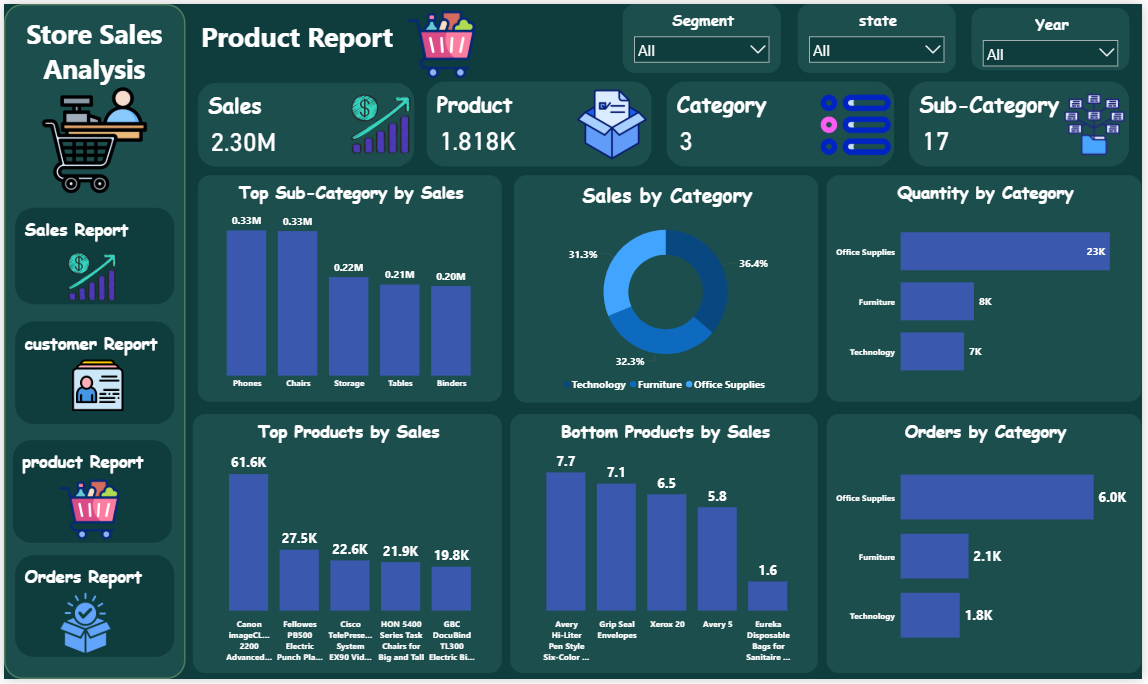

This screenshot's page, from the dashboard's own definition file:
{"tool":"powerbi","page":{"name":"product","canvas":[1820,1080],"ordinal":3},"visuals":[{"type":"cardVisual","title":"Sales","fields":{"Data":["Sum(sales.Sales)"]},"box":[310,126,346,134],"z":0},{"type":"cardVisual","title":"Product","fields":{"Data":["Count(product.Product Name)"]},"box":[676,124,360,136],"z":1000},{"type":"cardVisual","title":"Sub-Category","fields":{"Data":["Count(product.Sub-Category)"]},"box":[1448,124,352,136],"z":2000},{"type":"columnChart","title":"Top Sub-Category by Sales","fields":{"Y":["Sum(sales.Sales)"],"Category":["product.Sub-Category"]},"box":[310,274,486,362],"z":3000},{"type":"donutChart","title":"Sales by Category","fields":{"Category":["product.Category"],"Y":["Sum(sales.Sales)"]},"box":[816,274,486,364],"z":4000},{"type":"columnChart","title":"Top Products by Sales","fields":{"Category":["product.Product Name"],"Y":["Sum(sales.Sales)"]},"box":[302,656,494,414],"z":5000},{"type":"textbox","box":[0,0,290,1080],"z":6000},{"type":"textbox","box":[310,0,1490,124],"z":7000},{"type":"image","box":[550,124,106,136],"z":8000},{"type":"cardVisual","title":"Category","fields":{"Data":["Count(product.Category)"]},"box":[1060,124,364,136],"z":9000},{"type":"image","box":[0,126,290,184],"z":10000},{"type":"slicer","title":"Year","fields":{"Values":["date.Year","date.Quarter"]},"box":[1547.5,5,252.5,100],"z":11000},{"type":"slicer","title":"state","fields":{"Values":["customer.State"]},"box":[1270,0,252.5,110],"z":12000},{"type":"slicer","title":"Segment","fields":{"Values":["customer.Segment"]},"box":[990,0,252.5,110],"z":13000},{"type":"group","id":"g1","title":"Group 1","box":[18,882,254,162],"z":14000},{"type":"group","id":"g2","title":"Group 2","box":[14,698,254,164],"z":15000},{"type":"group","id":"g3","title":"Group 3","box":[18,508,254,164],"z":16000},{"type":"group","id":"g4","title":"Group 4","box":[0,326,282,154],"z":17000},{"type":"columnChart","title":"Bottom Products by Sales","fields":{"Category":["product.Product Name"],"Y":["Sum(sales.Sales)"]},"box":[810,656,492,414],"z":18000},{"type":"barChart","title":" Quantity by Category","fields":{"Category":["product.Category"],"Y":["Sum(sales.Quantity)"]},"box":[1316,274,504,362],"z":19000},{"type":"textbox","box":[18,326,254,154],"z":19000,"group":"g4"},{"type":"textbox","box":[18,508,254,164],"z":20000,"group":"g3"},{"type":"barChart","title":" Orders by Category","fields":{"Category":["product.Category"],"Y":["CountNonNull(sales.Order ID)"]},"box":[1316,656,504,414],"z":20000},{"type":"image","box":[910,126,126,134],"z":21000},{"type":"textbox","box":[14,698,254,164],"z":21000,"group":"g2"},{"type":"image","box":[1302,126,122,134],"z":22000},{"type":"textbox","box":[18,882,254,162],"z":22000,"group":"g1"},{"type":"image","box":[1690,126,110,134],"z":23000},{"type":"image","box":[550,6,300,118],"z":24000},{"type":"image","box":[0,392,282,88],"z":26000,"group":"g4"},{"type":"image","box":[32,564,236,92],"z":27000,"group":"g3"},{"type":"image","box":[18,936,224,108],"z":27001,"group":"g1"},{"type":"image","box":[32,756,210,106],"z":27003,"group":"g2"}]}

Visuals, with their boxes in screenshot pixels (x1, y1, x2, y2), scaled from the page's 1820x1080 canvas onto the 1148x684 screenshot:
"Sales" cardVisual: 196 80 414 165
"Product" cardVisual: 426 79 653 165
"Sub-Category" cardVisual: 913 79 1135 165
"Top Sub-Category by Sales" columnChart: 196 174 502 403
"Sales by Category" donutChart: 515 174 821 404
"Top Products by Sales" columnChart: 190 415 502 678
textbox: 0 0 183 683
textbox: 196 0 1135 79
image: 347 79 414 165
"Category" cardVisual: 669 79 898 165
image: 0 80 183 196
"Year" slicer: 976 3 1135 66
"state" slicer: 801 0 960 70
"Segment" slicer: 624 0 784 70
"Group 1" group: 11 559 172 661
"Group 2" group: 9 442 169 546
"Group 3" group: 11 322 172 426
"Group 4" group: 0 206 178 304
"Bottom Products by Sales" columnChart: 511 415 821 678
" Quantity by Category" barChart: 830 174 1147 403
textbox: 11 206 172 304
textbox: 11 322 172 426
" Orders by Category" barChart: 830 415 1147 678
image: 574 80 653 165
textbox: 9 442 169 546
image: 821 80 898 165
textbox: 11 559 172 661
image: 1066 80 1135 165
image: 347 4 536 79
image: 0 248 178 304
image: 20 357 169 415
image: 11 593 153 661
image: 20 479 153 546
